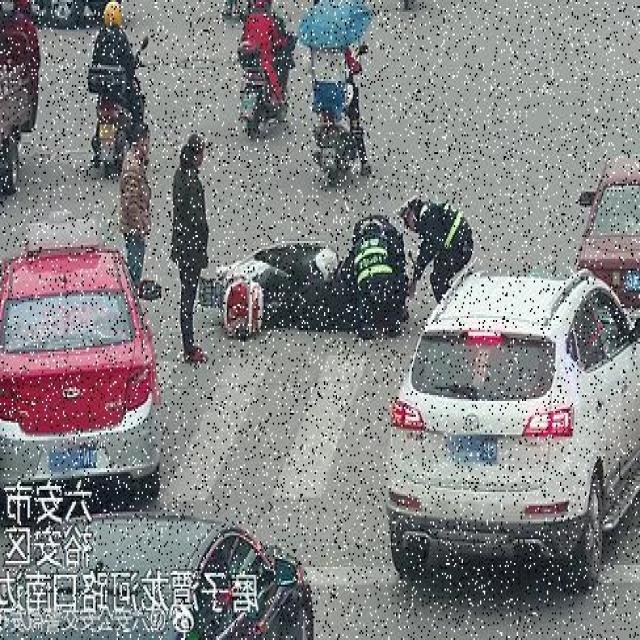fall: (278, 261, 408, 336)
